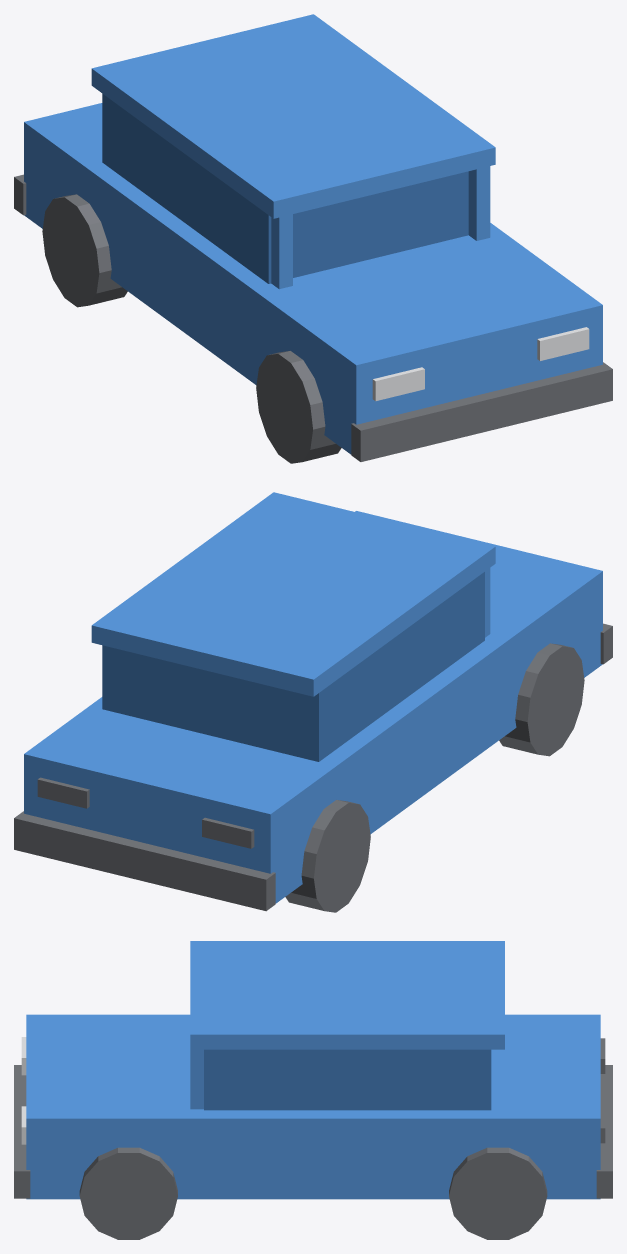
The model's file is Car_01.fbx.
3 renders of one model, top to bottom at view 1: azimuth 30°, elevation 25°; view 2: azimuth 150°, elevation 25°; view 3: azimuth 270°, elevation 25°, orthographic. The views are drawn at different scales.
Parts seen in each view (by area): view 1: Car_01_Accent, Car_01_Trim, Car_01_Windows, Car_01_Marking; view 2: Car_01_Accent, Car_01_Windows, Car_01_Trim; view 3: Car_01_Accent, Car_01_Trim, Car_01_Windows, Car_01_Marking.
Boxes of the visible parts, left/top/right/bottom form: Car_01_Accent: left=24, top=14, right=602, bottom=454; Car_01_Trim: left=14, top=174, right=612, bottom=463; Car_01_Windows: left=102, top=93, right=468, bottom=283; Car_01_Marking: left=372, top=327, right=589, bottom=401; Car_01_Accent: left=24, top=492, right=602, bottom=903; Car_01_Windows: left=102, top=572, right=484, bottom=761; Car_01_Trim: left=14, top=623, right=612, bottom=912; Car_01_Accent: left=26, top=941, right=600, bottom=1199; Car_01_Trim: left=14, top=1038, right=612, bottom=1239; Car_01_Windows: left=204, top=1049, right=491, bottom=1110; Car_01_Marking: left=21, top=1037, right=26, bottom=1144.
Bounding box in the file's own units: 1.98 × 1.57 × 4.38.
